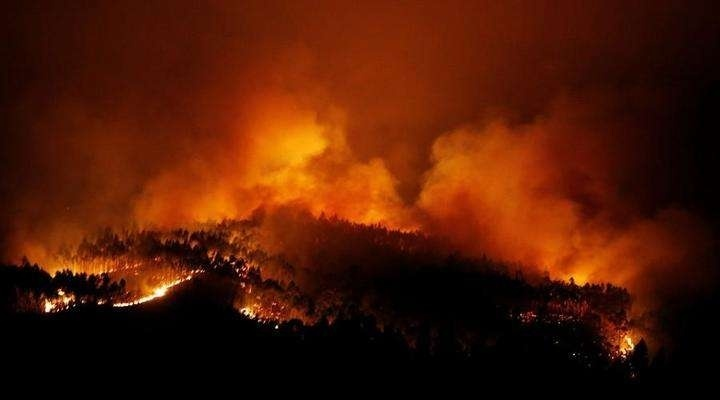fire: (116, 272, 189, 308), (37, 287, 77, 315), (612, 327, 639, 358)
